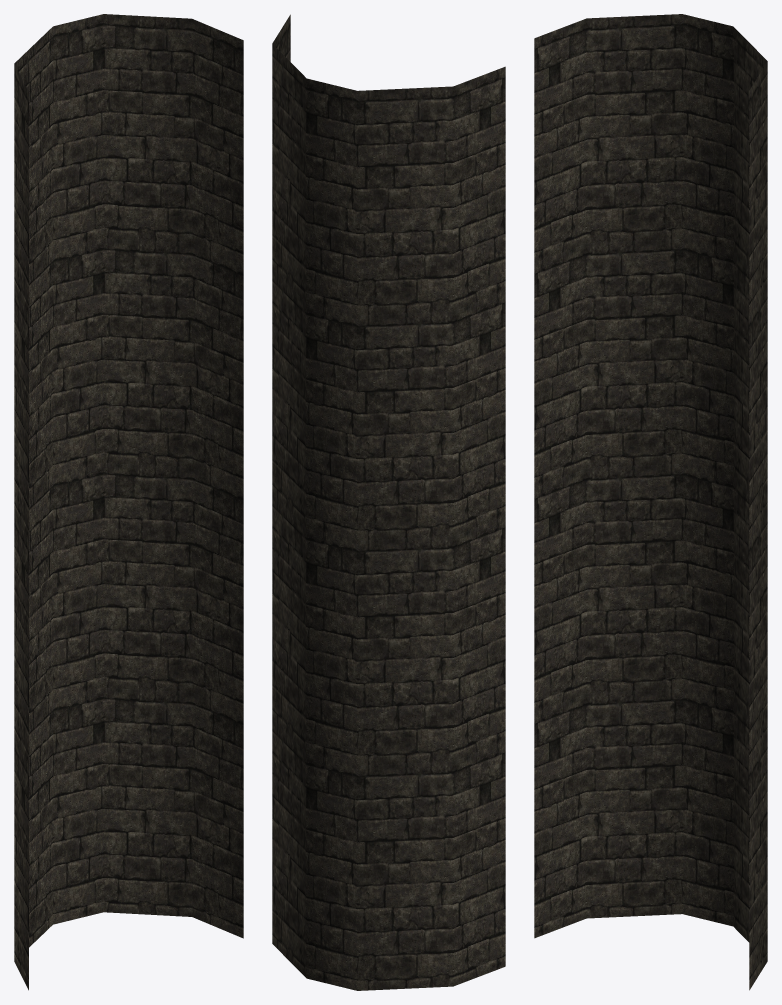
Rendered from wallBlockIR.fbx.
3 views of the same model, side by side, from view 1: azimuth 30°, elevation 25°; view 2: azimuth 150°, elevation 25°; view 3: azimuth 330°, elevation 25° (orthographic).
Visible parts, largest first — view 1: polySurface50; view 2: polySurface50; view 3: polySurface50.
Part boxes in pixels (x1,y1,x2,y2): polySurface50: [14, 14, 243, 990]; polySurface50: [272, 14, 505, 990]; polySurface50: [534, 14, 767, 990].
Bounding box in the file's own units: 2 × 8 × 1.
1 material, 1 textured.
